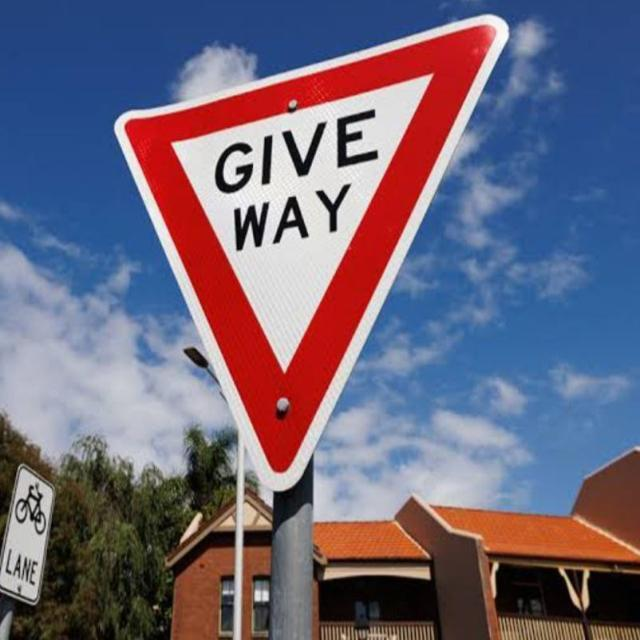give way: (102, 18, 510, 484)
